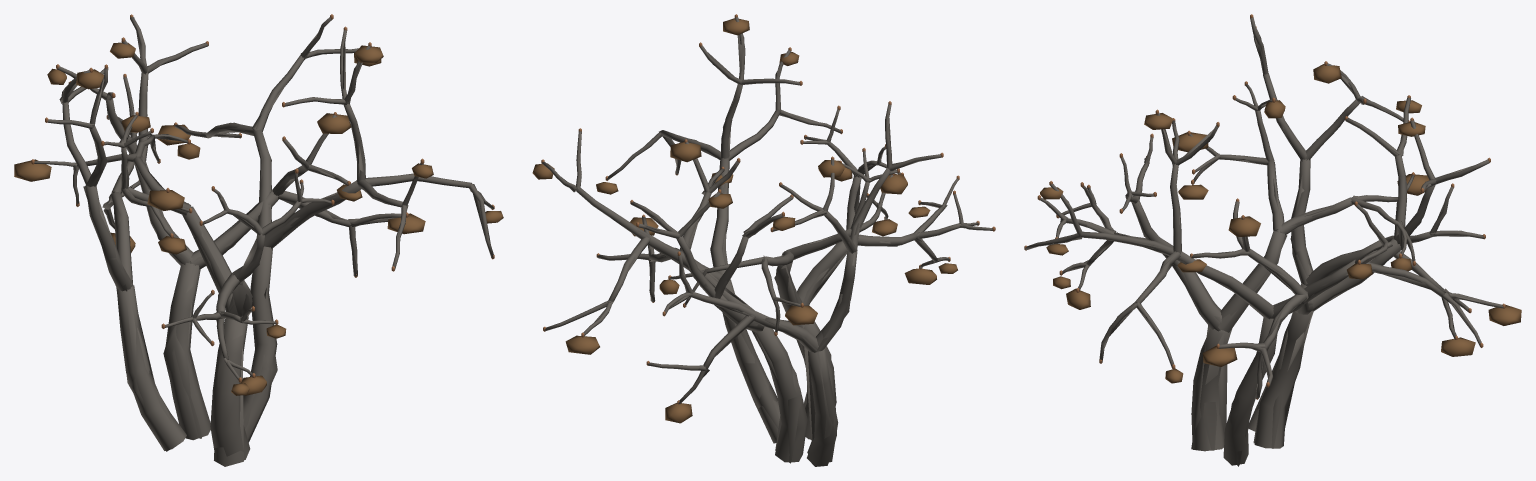
Rendered from scrub_oak_5.glb.
3 renders of one model, left to right at view 1: azimuth 30°, elevation 25°; view 2: azimuth 150°, elevation 25°; view 3: azimuth 270°, elevation 25°, orthographic. The views are drawn at different scales.
Visible parts, largest first — view 1: ScrubOak_Far_Bark, ScrubOak_LimbWood_3, ScrubOak_LimbWood_0, ScrubOak_LimbWood_1, ScrubOak_LimbWood_2, ScrubOak_Dead_51_Leaves, ScrubOak_Dead_47_Leaves, ScrubOak_Dead_19_Leaves, ScrubOak_Dead_21_Leaves; view 2: ScrubOak_LimbWood_0, ScrubOak_Far_Bark, ScrubOak_LimbWood_2, ScrubOak_LimbWood_3, ScrubOak_LimbWood_1, ScrubOak_Dead_47_Leaves, ScrubOak_Dead_13_Leaves, ScrubOak_Dead_19_Leaves; view 3: ScrubOak_LimbWood_3, ScrubOak_LimbWood_0, ScrubOak_LimbWood_1, ScrubOak_Far_Bark, ScrubOak_LimbWood_2, ScrubOak_Dead_13_Leaves, ScrubOak_Dead_21_Leaves, ScrubOak_Dead_37_Leaves, ScrubOak_Dead_19_Leaves.
Part boxes in pixels (bbox=[...]): ScrubOak_Far_Bark: bbox=[45, 17, 490, 466]; ScrubOak_LimbWood_3: bbox=[34, 115, 331, 460]; ScrubOak_LimbWood_0: bbox=[174, 17, 493, 442]; ScrubOak_LimbWood_1: bbox=[57, 17, 406, 440]; ScrubOak_LimbWood_2: bbox=[47, 67, 186, 450]; ScrubOak_Dead_51_Leaves: bbox=[147, 190, 184, 210]; ScrubOak_Dead_47_Leaves: bbox=[14, 159, 51, 181]; ScrubOak_Dead_19_Leaves: bbox=[317, 113, 351, 133]; ScrubOak_Dead_21_Leaves: bbox=[387, 213, 425, 234]; ScrubOak_LimbWood_0: bbox=[542, 17, 841, 443]; ScrubOak_Far_Bark: bbox=[561, 35, 965, 465]; ScrubOak_LimbWood_2: bbox=[648, 104, 941, 466]; ScrubOak_LimbWood_3: bbox=[669, 109, 992, 439]; ScrubOak_LimbWood_1: bbox=[597, 141, 807, 462]; ScrubOak_Dead_47_Leaves: bbox=[785, 305, 817, 325]; ScrubOak_Dead_13_Leaves: bbox=[565, 335, 599, 354]; ScrubOak_Dead_19_Leaves: bbox=[670, 142, 701, 162]; ScrubOak_LimbWood_3: bbox=[1040, 84, 1415, 451]; ScrubOak_LimbWood_0: bbox=[1024, 112, 1503, 465]; ScrubOak_LimbWood_1: bbox=[1192, 97, 1489, 448]; ScrubOak_Far_Bark: bbox=[1045, 27, 1486, 466]; ScrubOak_LimbWood_2: bbox=[1248, 17, 1484, 431]; ScrubOak_Dead_13_Leaves: bbox=[1488, 305, 1521, 325]; ScrubOak_Dead_21_Leaves: bbox=[1202, 346, 1237, 366]; ScrubOak_Dead_37_Leaves: bbox=[1441, 337, 1475, 356]; ScrubOak_Dead_19_Leaves: bbox=[1228, 216, 1260, 236].
Size of what is drawn, in the model's own units: 2.8 by 2.65 by 3.02.
